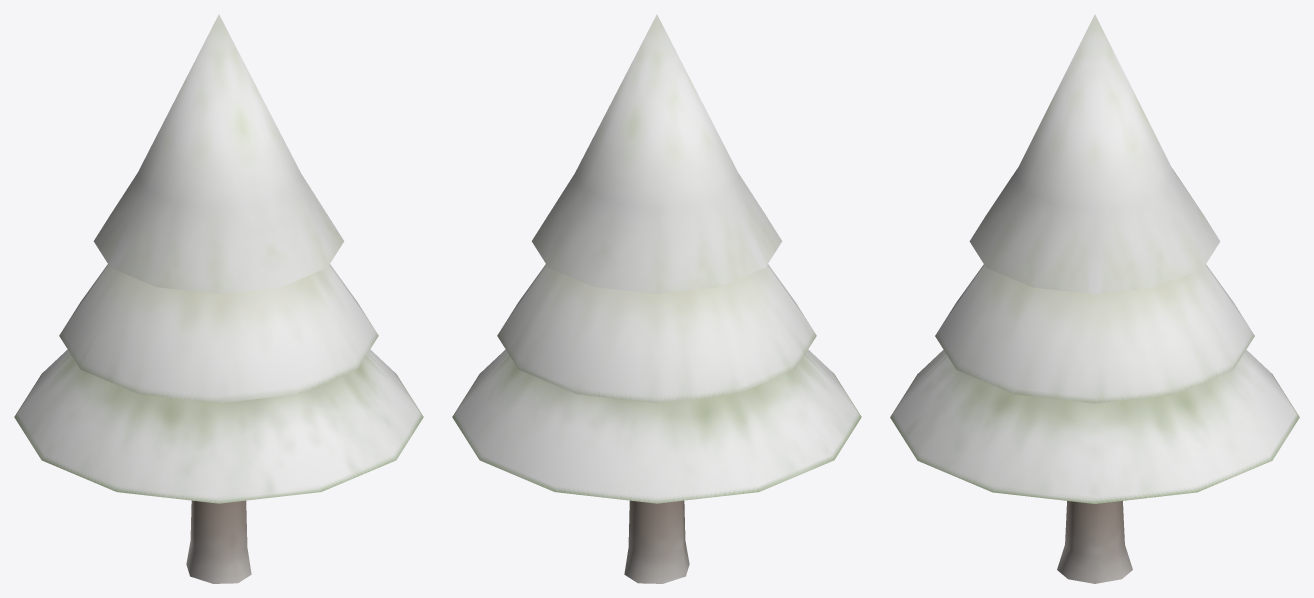
Rendered from Tree_B.fbx.
3 renders of one model, left to right at view 1: azimuth 30°, elevation 25°; view 2: azimuth 150°, elevation 25°; view 3: azimuth 270°, elevation 25°, orthographic.
Visible parts, largest first — view 1: TreeB; view 2: TreeB; view 3: TreeB.
Boxes of the visible parts, bbox=[...] form: TreeB: bbox=[14, 14, 423, 583]; TreeB: bbox=[452, 14, 861, 583]; TreeB: bbox=[890, 14, 1299, 583].
Size of the model in its own units: 355 by 531 by 355.
1 material, 1 textured.
